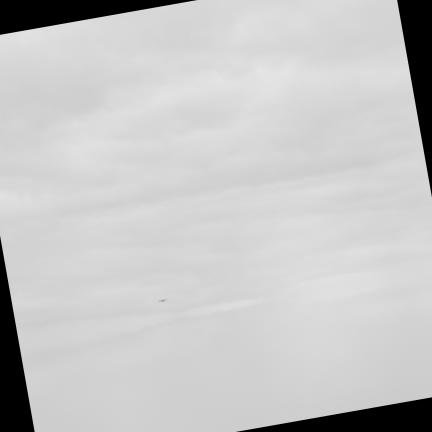Shahed: (158, 299, 167, 302)
